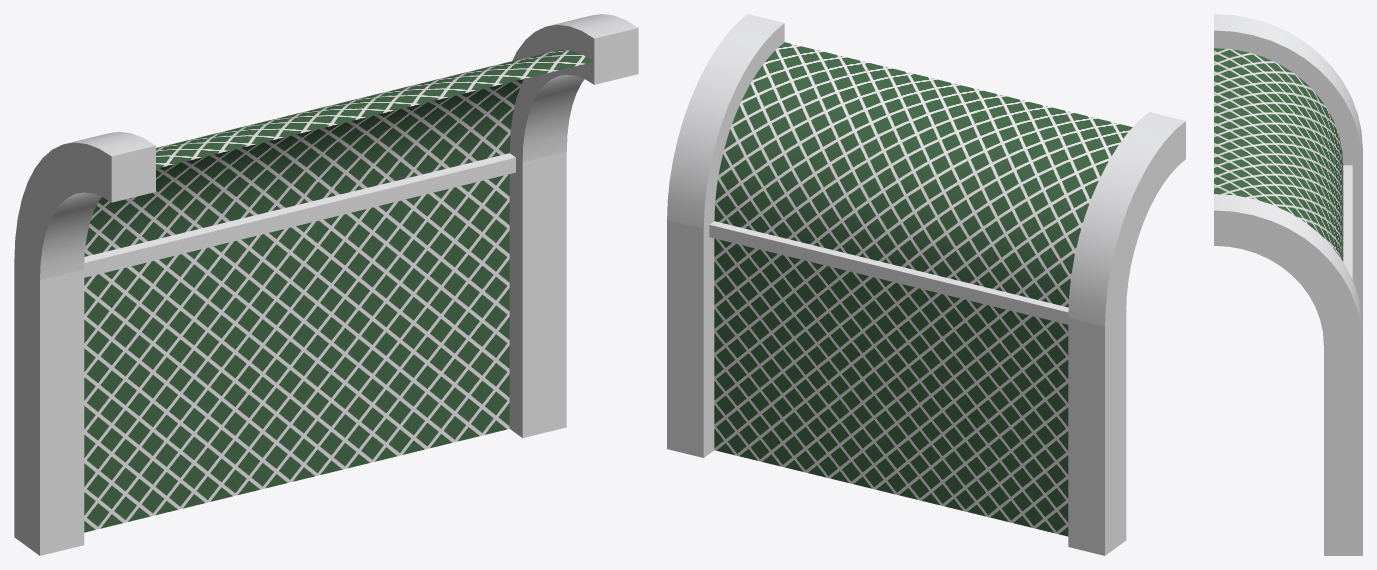
Rendered from fenceCurved.glb.
The picture shows the model from 3 angles, left to right: view 1: azimuth 30°, elevation 25°; view 2: azimuth 150°, elevation 25°; view 3: azimuth 270°, elevation 25°; orthographic projection. The views are drawn at different scales.
Parts seen in each view (by area): view 1: fenceCurved; view 2: fenceCurved; view 3: fenceCurved.
Boxes of the visible parts, bbox=[...] form: fenceCurved: bbox=[14, 14, 638, 555]; fenceCurved: bbox=[667, 14, 1185, 555]; fenceCurved: bbox=[1214, 14, 1362, 555].
Bounding box in the file's own units: 1 × 0.82 × 0.32.
2 materials, 1 textured.
